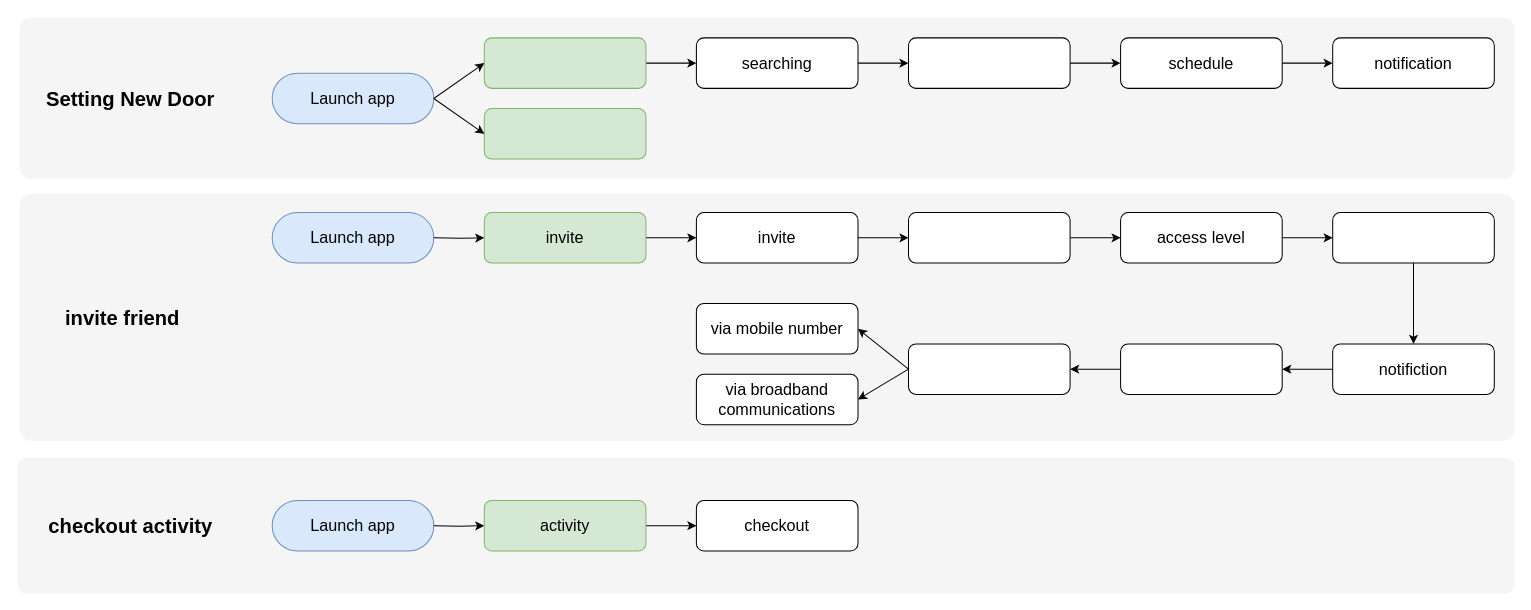
Image size: 1531x610. Some labels were removed from this diagram. Here are the shapes that lost their labels. From the top down, the centre of each, then its label:
At point (564, 62): "add door".
At point (988, 62): "door name".
At point (564, 133): "lock/ unlock door".
At point (988, 237): "name".
At point (1413, 237): "access schedule".
At point (988, 368): "send invite".
At point (1201, 368): "generate password".
